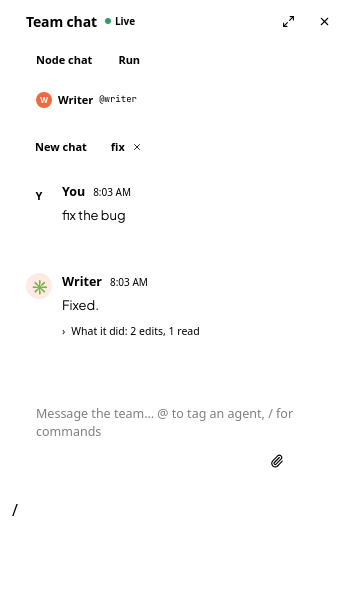
Test case: D302 what an agent did, under its reply › shows the activity collapsed as counts, and expands to the items
The width and height of the screenshot is (355, 594).
Expected: the text "Edited src/b.ts" is not shown
Click the button "› What it did: 2 edits, 1 read" at (131, 331), box [62,324,200,339]
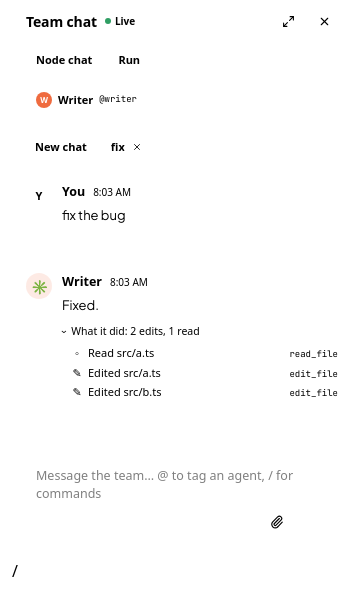
Now the button "› What it did: 2 edits, 1 read" is expanded, box [62,324,200,339]
